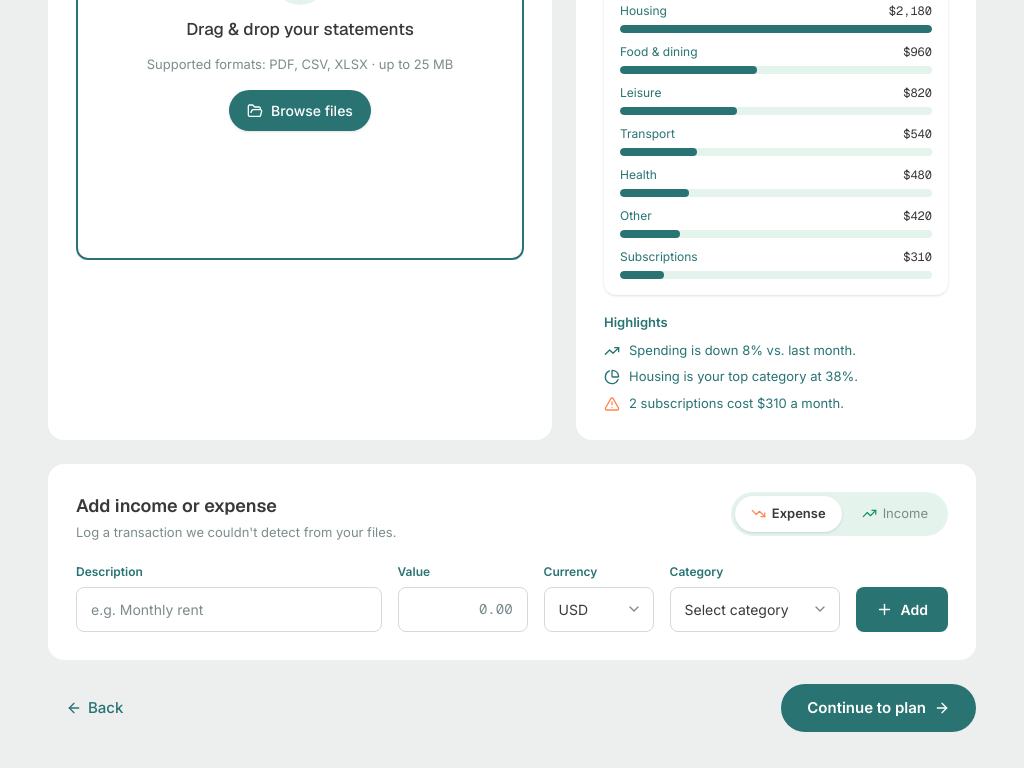
Test: adding a transaction › signs an expense negative
The image size is (1024, 768).
(page scrolled)
Type "Groceries — Whole Foods" into the field labelled "Description" at (229, 609), box [76,587,382,632]
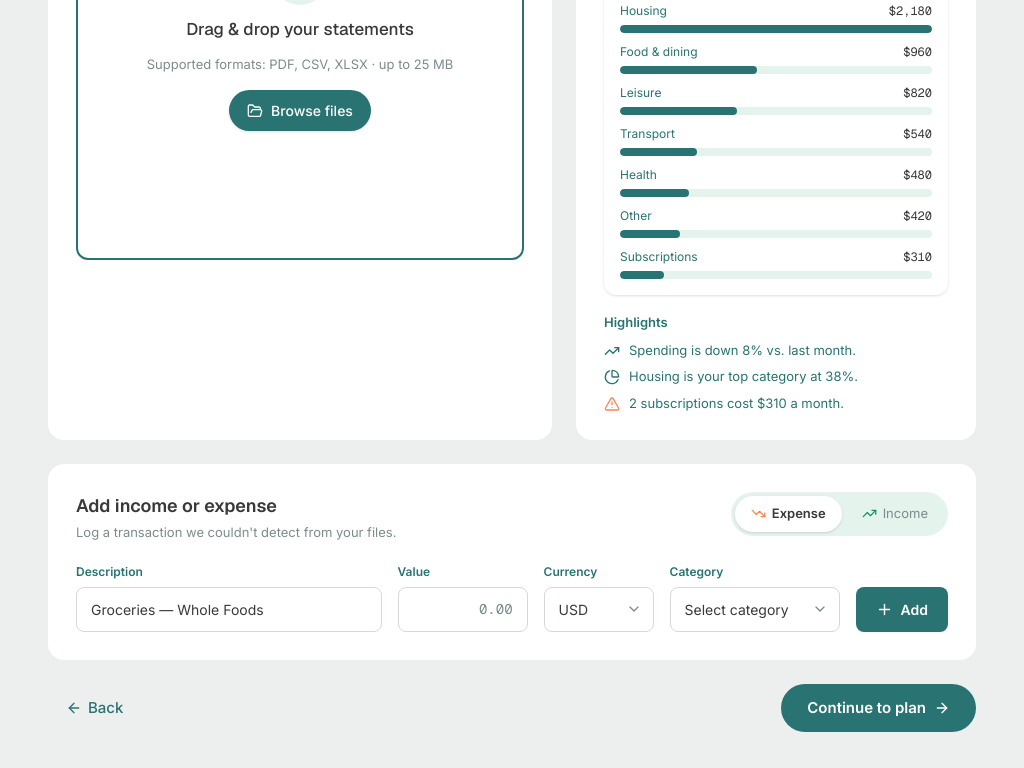
Type "142.30" into the field labelled "Value" at (462, 609), box [398,587,528,632]
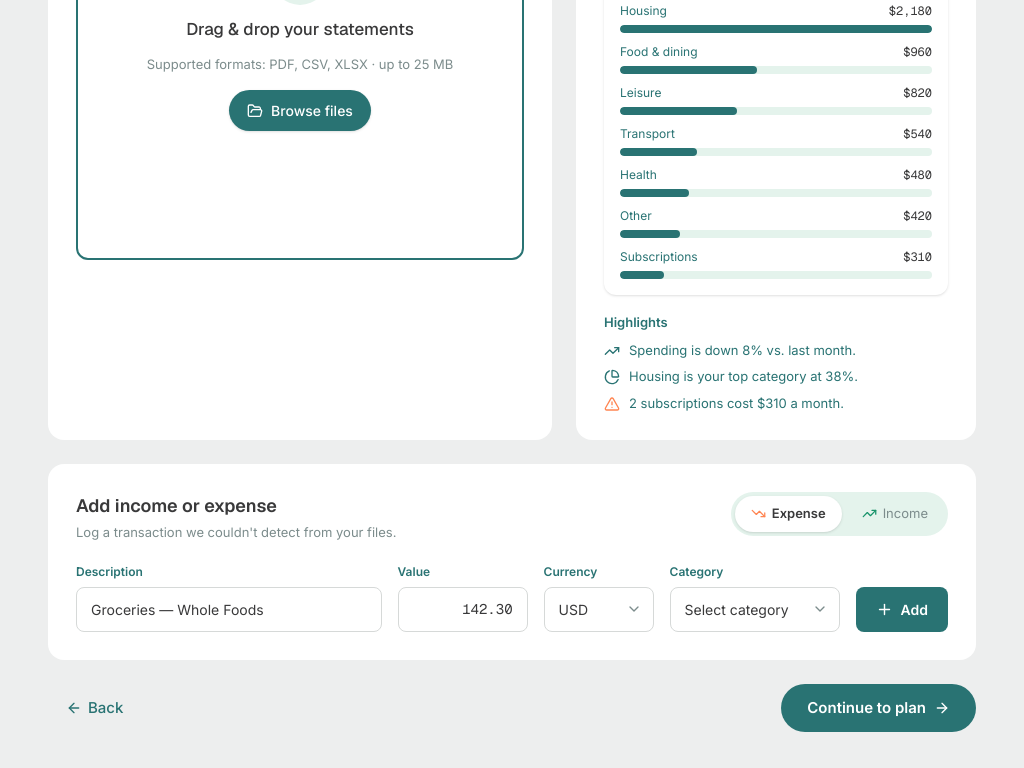
Select "Food & dining" in the dropdown labelled "Category" at (754, 609), box [670,587,840,632]
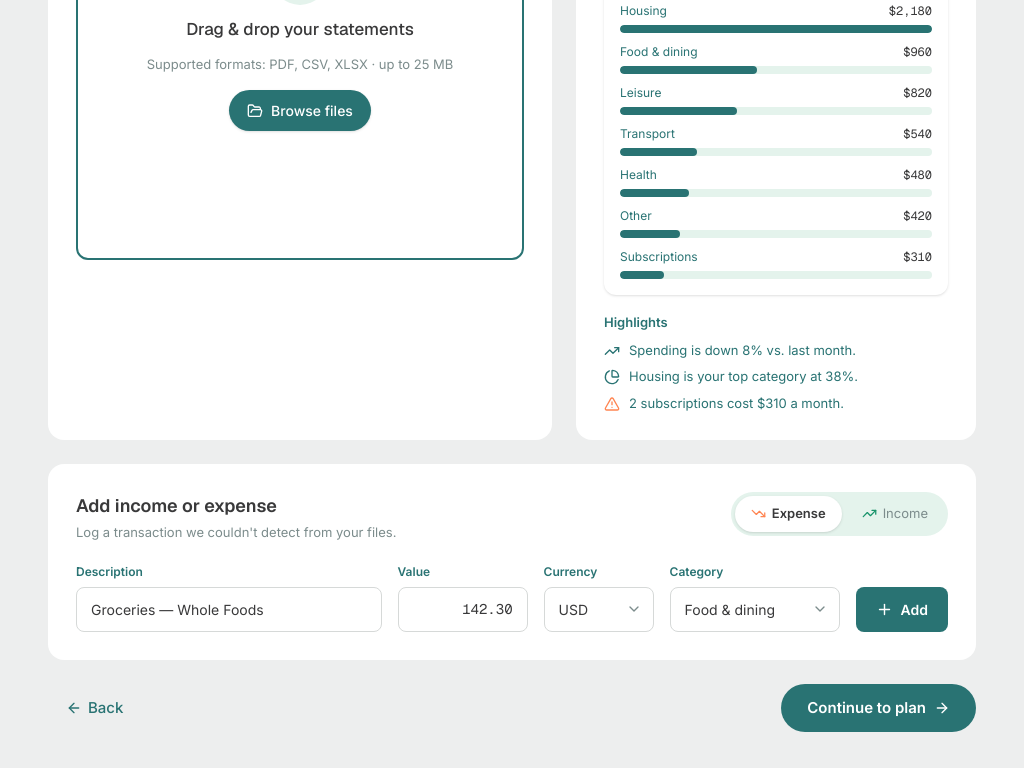
Click the button "Add" at (902, 609), box [856,587,948,632]
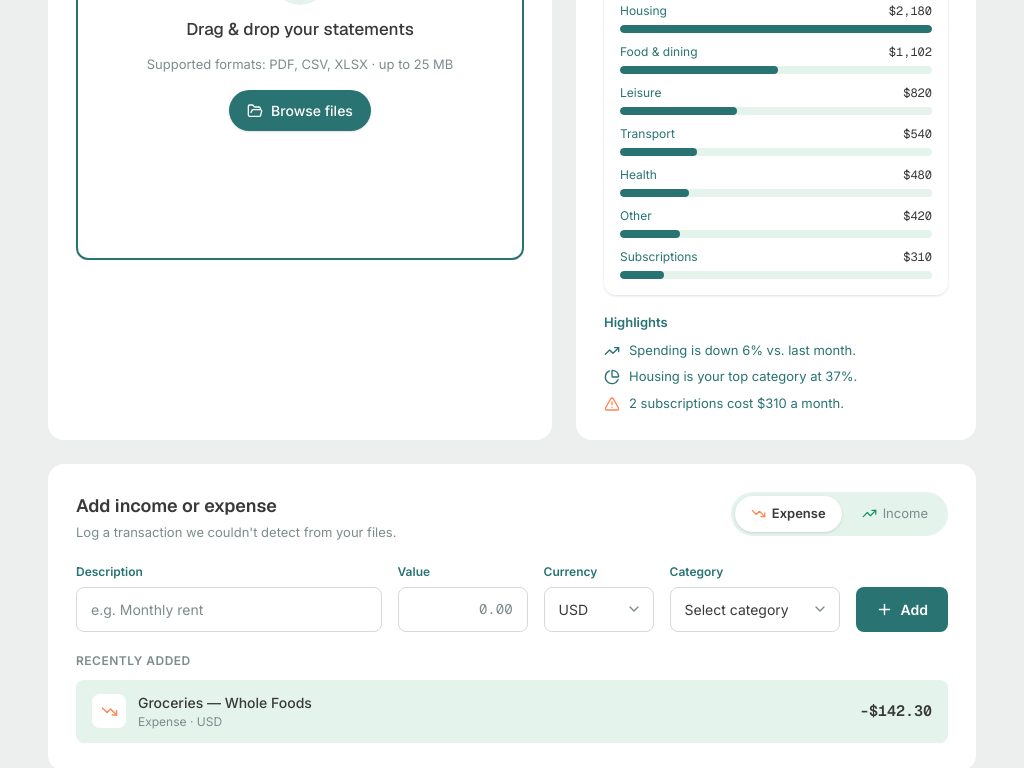
Now the text "-$142.30" is shown, box [860,700,932,722]
